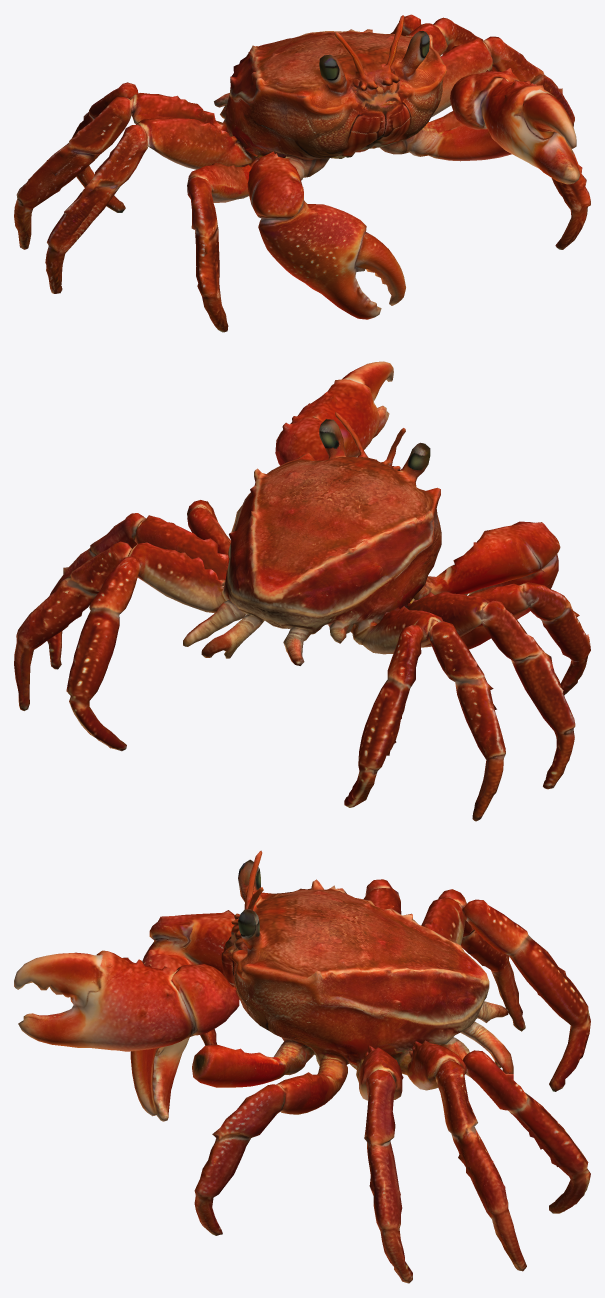
The model's file is caranguejo.glb.
The picture shows the model from 3 angles, top to bottom: view 1: azimuth 30°, elevation 25°; view 2: azimuth 150°, elevation 25°; view 3: azimuth 270°, elevation 25°; orthographic projection. The views are drawn at different scales.
Size of the model in its own units: 1.91 by 0.9002 by 1.66.
1 material, 1 textured.
